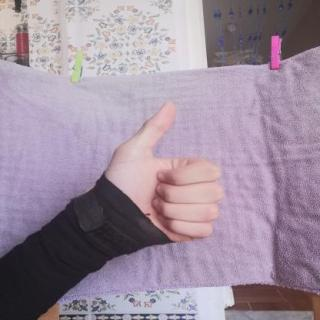ALIF: (86, 89, 234, 263)
